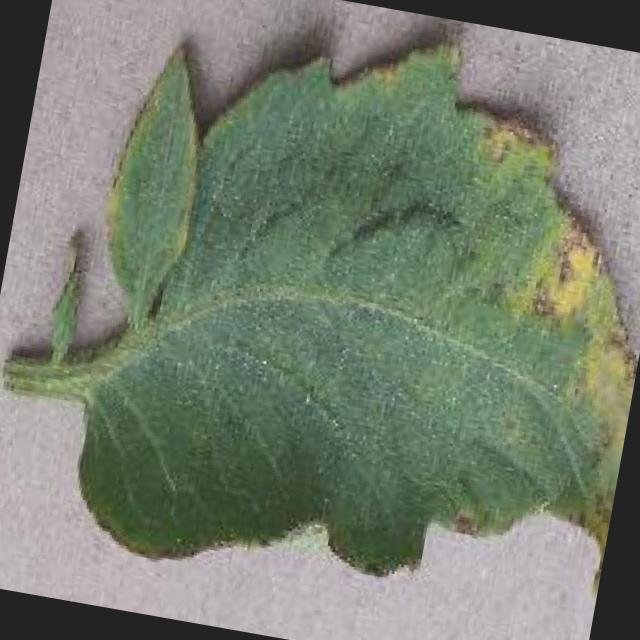bacterial spot: (6, 32, 630, 596)
